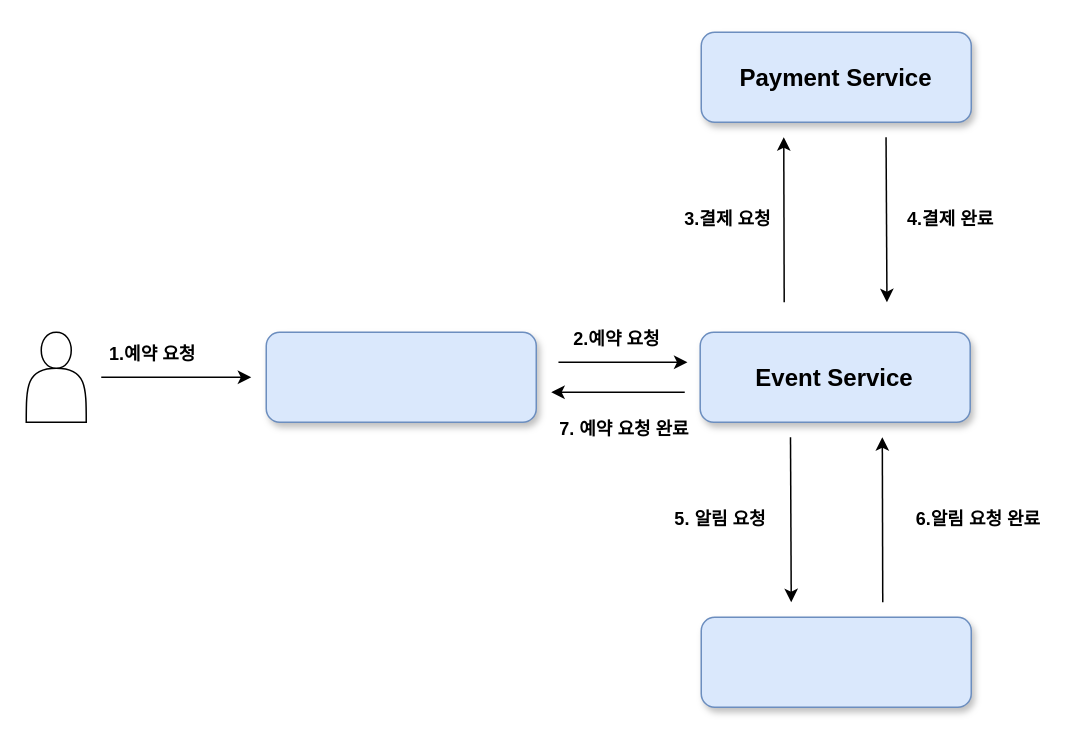
Some shapes in this 1088 by 744 pixel diagram are drawn without their labels. Here are the shapes that lost their labels. From the top down, the centre of each, then its label:
At (x=402, y=379): "Reservation Service".
At (x=837, y=664): "Notification Service".
